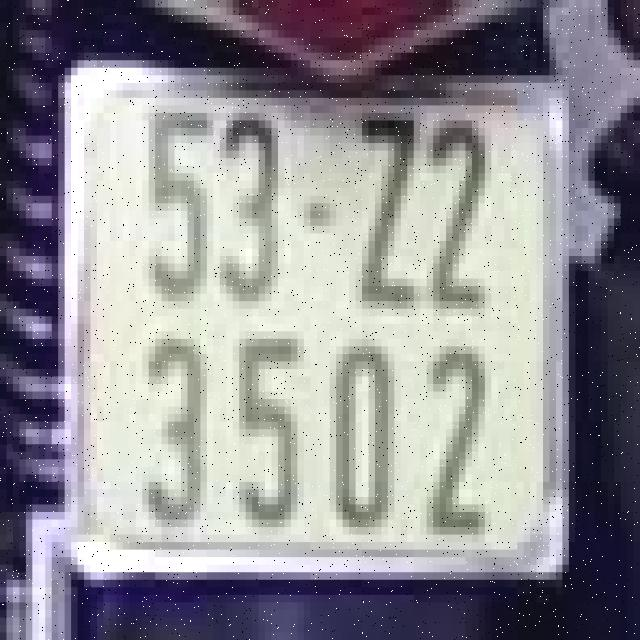0: (327, 338, 404, 534)
2: (427, 113, 504, 316), (423, 342, 501, 538)
3: (136, 335, 213, 531), (220, 102, 284, 305)
5: (139, 102, 217, 305), (226, 331, 304, 527)
Z: (349, 106, 427, 316)
